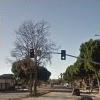Traffic light: (54, 44, 77, 68)
